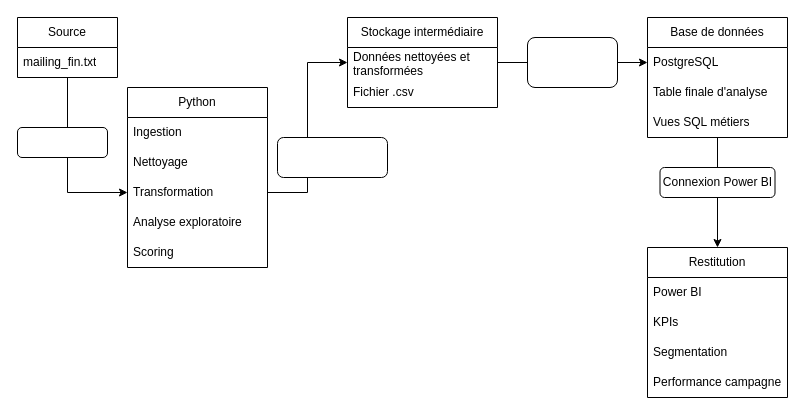
Image size: 805x415. Some labels were removed from this diagram. Here are the shapes that lost their labels. From the top down, the centre of each, then its label:
At (572,62): "Chargement dans PostgreSQL".
At (62,142): "Chargement des données".
At (332,157): "Export des données préparées".
